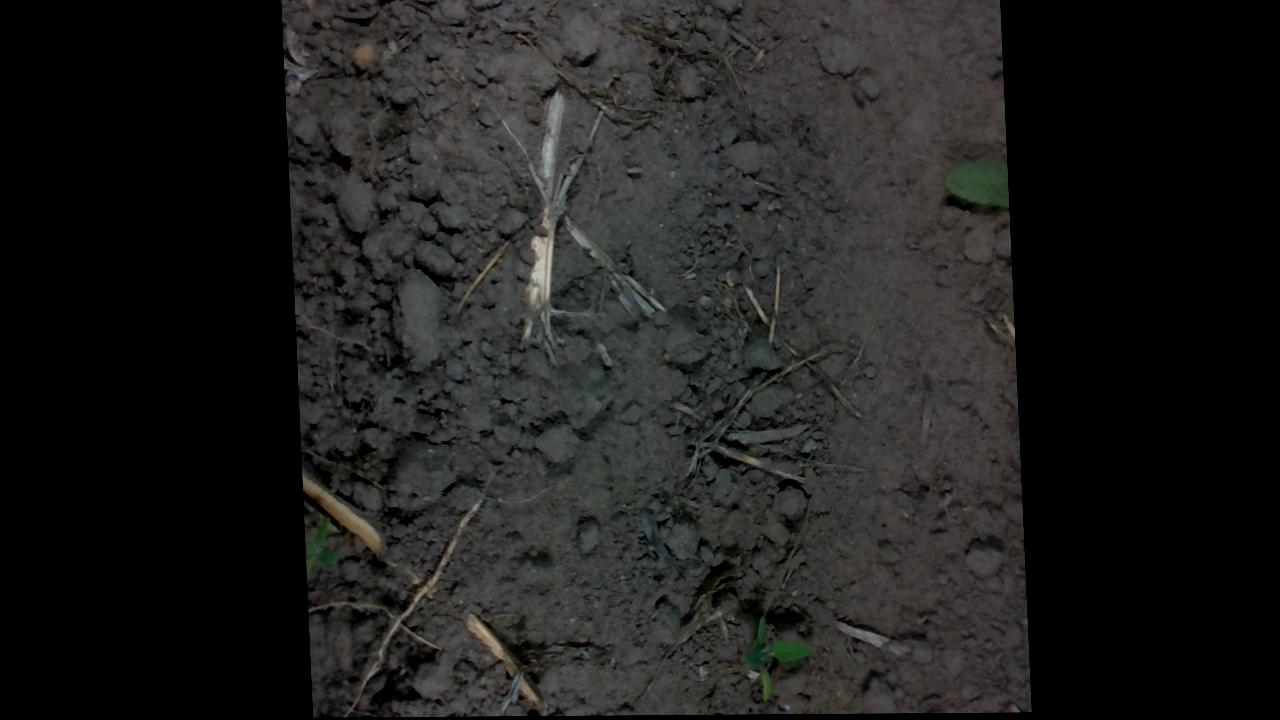weed: (732, 613, 810, 703)
